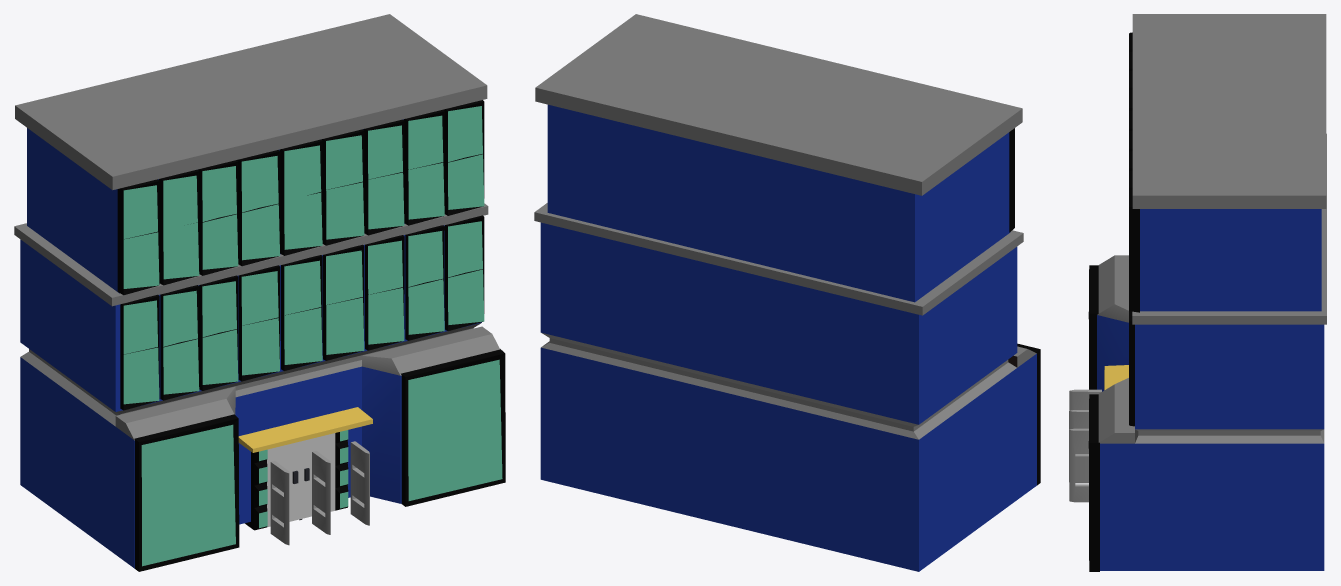
Rendered from LojaGenerica2AZULLOD1.fbx.
The picture shows the model from 3 angles, left to right: view 1: azimuth 30°, elevation 25°; view 2: azimuth 150°, elevation 25°; view 3: azimuth 270°, elevation 25°; orthographic projection. The views are drawn at different scales.
Visible parts, largest first — view 1: LojaGenerica2LOD1.001, SensoresLOD1.001; view 2: LojaGenerica2LOD1.001; view 3: LojaGenerica2LOD1.001, SensoresLOD1.001.
Part boxes in pixels (left/top/right/bottom): LojaGenerica2LOD1.001: left=14, top=14, right=505, bottom=571; SensoresLOD1.001: left=270, top=441, right=369, bottom=545; LojaGenerica2LOD1.001: left=534, top=14, right=1040, bottom=571; LojaGenerica2LOD1.001: left=1088, top=14, right=1326, bottom=571; SensoresLOD1.001: left=1069, top=389, right=1101, bottom=502.
Size of the model in its own units: 1094 by 1077 by 653.
Materials: 1 (1 with a texture image).
